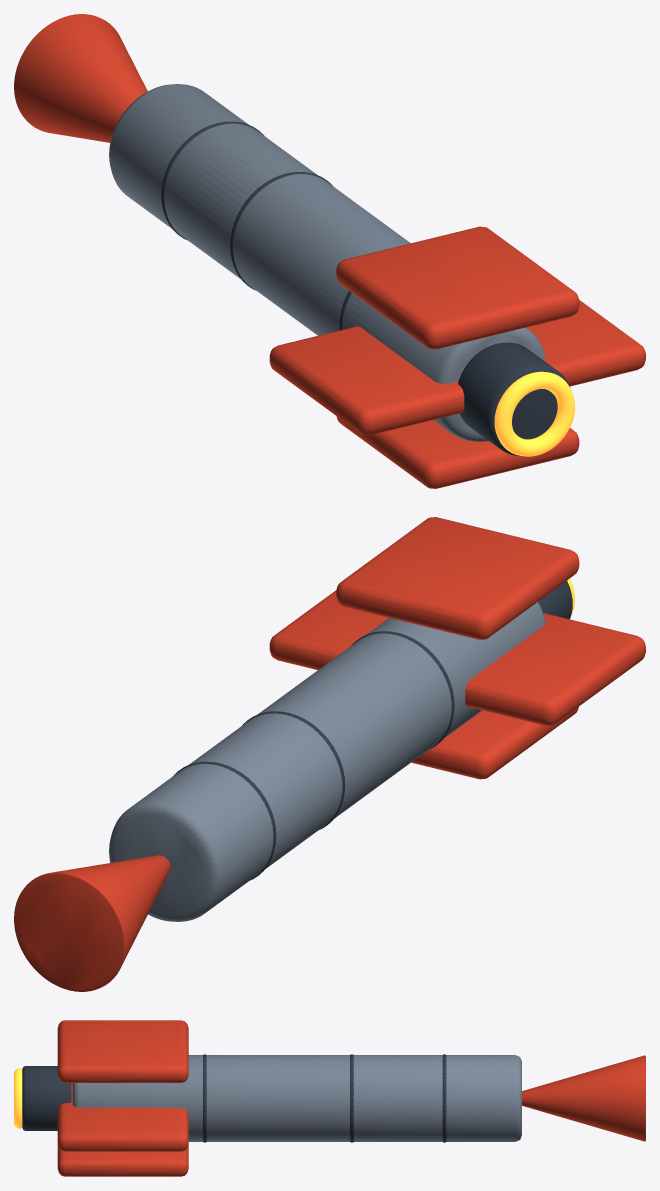
The model's file is missile_enemy.glb.
3 renders of one model, top to bottom at view 1: azimuth 30°, elevation 25°; view 2: azimuth 150°, elevation 25°; view 3: azimuth 270°, elevation 25°, orthographic. The views are drawn at different scales.
Parts seen in each view (by area): view 1: ASSET_missile_enemy; view 2: ASSET_missile_enemy; view 3: ASSET_missile_enemy.
Boxes of the visible parts, bbox=[...] form: ASSET_missile_enemy: bbox=[14, 14, 645, 488]; ASSET_missile_enemy: bbox=[14, 517, 645, 991]; ASSET_missile_enemy: bbox=[14, 1020, 645, 1176].
Bounding box in the file's own units: 0.82 × 0.45 × 2.32.
